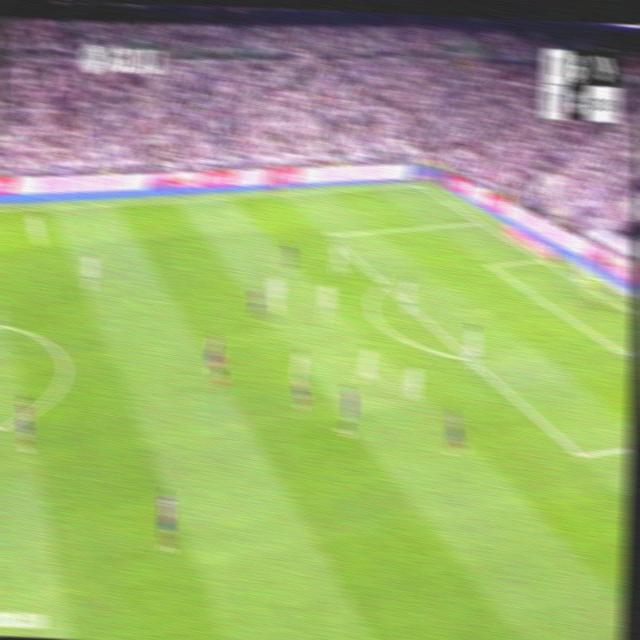bigarea_bottom_inner: (573, 441, 588, 467)
bigarea_top_inner: (326, 227, 335, 242)
bigarea_top_outter: (475, 216, 484, 225)
bottom_arc_area_intersection: (463, 350, 475, 365)
corner: (412, 178, 425, 189)
smallarea_bottom_inner: (616, 344, 629, 362)
smallarea_top_inner: (487, 259, 497, 269)
top_arc_area_intersection: (378, 273, 391, 291)
